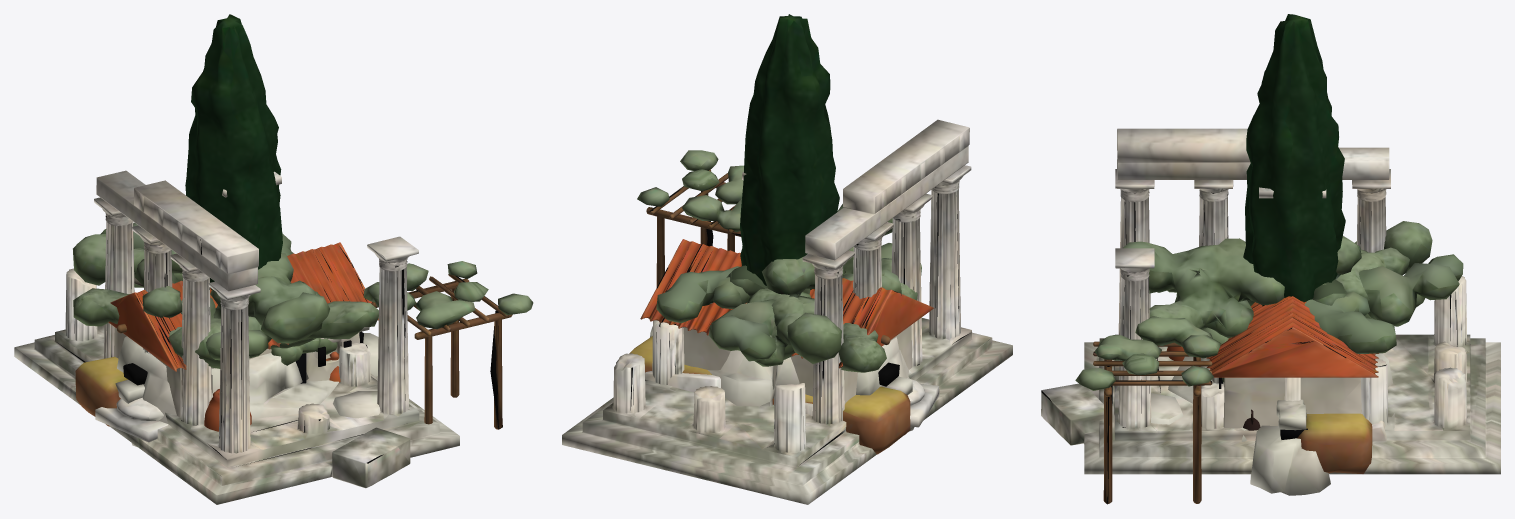
Rendered from classical_decor_olive.glb.
3 views of the same model, side by side, from view 1: azimuth 30°, elevation 25°; view 2: azimuth 150°, elevation 25°; view 3: azimuth 270°, elevation 25° (orthographic). The views are drawn at different scales.
Parts seen in each view (by area): view 1: Temple, Farm, Cypress_A, Olive_A, Rock_C, Wall, Fallen, Olive_B, Olive_C; view 2: Temple, Cypress_A, Farm, Olive_A, Olive_B, Wall, Rock_C, Fallen, Blocks; view 3: Temple, Farm, Cypress_A, Olive_A, Rock_C, Olive_B, Wall.
Boxes of the visible parts, x1,y1,x2,y2 form: Temple: (14, 170, 459, 504); Farm: (108, 242, 533, 431); Cypress_A: (185, 14, 282, 289); Olive_A: (73, 222, 378, 368); Rock_C: (117, 333, 380, 446); Wall: (75, 327, 369, 426); Fallen: (95, 397, 168, 442); Olive_B: (133, 233, 315, 360); Olive_C: (271, 338, 337, 365); Temple: (562, 119, 1012, 504); Cypress_A: (740, 14, 839, 289); Farm: (637, 150, 933, 404); Olive_A: (708, 204, 917, 372); Olive_B: (656, 243, 921, 366); Wall: (629, 336, 912, 454); Rock_C: (650, 326, 914, 431); Fallen: (907, 378, 939, 427); Blocks: (645, 371, 812, 415); Temple: (1041, 128, 1500, 474); Farm: (1075, 296, 1378, 504); Cypress_A: (1243, 14, 1345, 306); Olive_A: (1120, 221, 1463, 338); Rock_C: (1151, 353, 1392, 495); Olive_B: (1167, 247, 1425, 353); Wall: (1276, 399, 1372, 474).
Bounding box in the file's own units: 3.13 × 3.62 × 3.61.
1 material, 1 textured.
